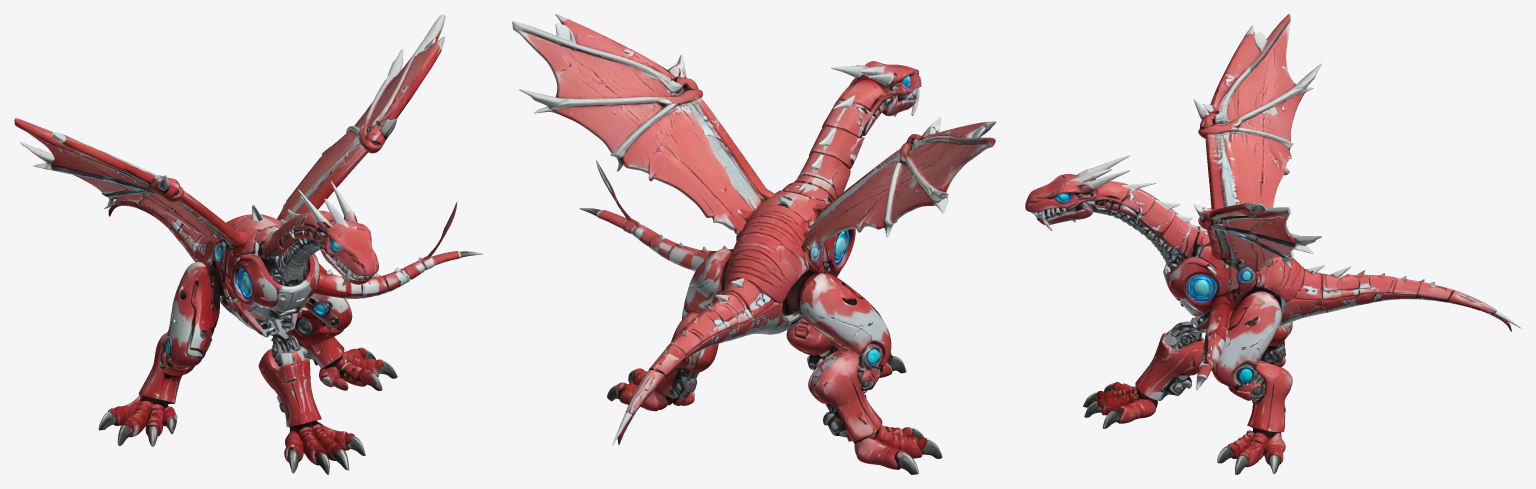
The model's file is TC001_Hyper Rodin 2.5.glb.
3 renders of one model, left to right at view 1: azimuth 30°, elevation 25°; view 2: azimuth 150°, elevation 25°; view 3: azimuth 270°, elevation 25°, orthographic. The views are drawn at different scales.
Visible parts, largest first — view 1: model; view 2: model; view 3: model.
Boxes of the visible parts, x1,y1,x2,y2 form: model: (14, 14, 482, 474); model: (512, 14, 996, 474); model: (1025, 14, 1521, 474).
Bounding box in the file's own units: 1.77 × 1.28 × 1.9.
1 material, 1 textured.
